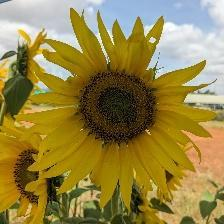sunflower: (13, 8, 219, 210)
